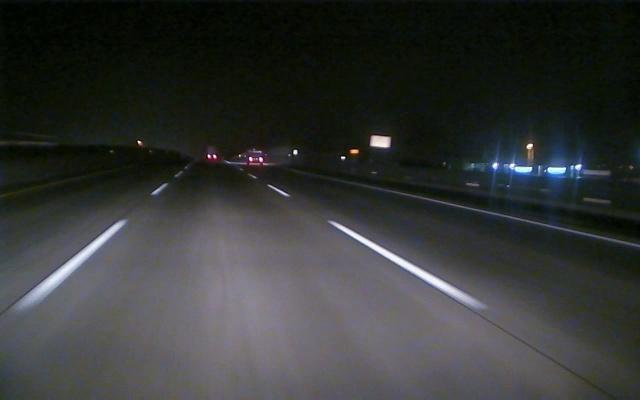lane: (272, 186, 490, 311), (5, 184, 165, 318), (368, 188, 637, 249)
